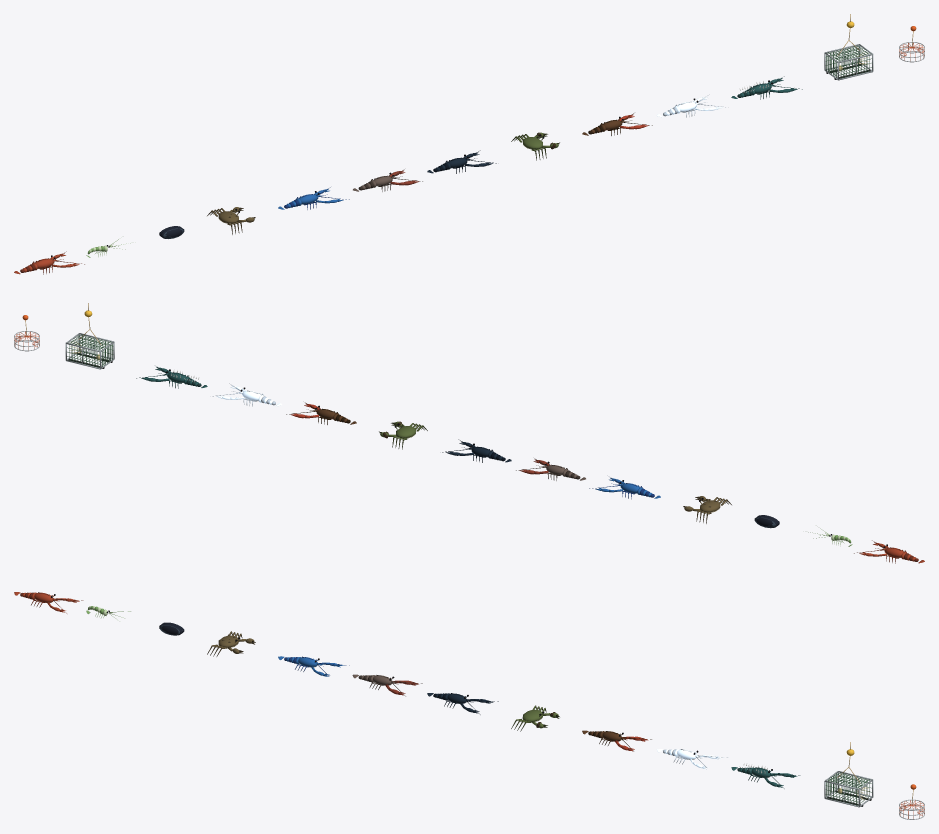
Rendered from shellfish.glb.
3 renders of one model, top to bottom at view 1: azimuth 30°, elevation 25°; view 2: azimuth 150°, elevation 25°; view 3: azimuth 330°, elevation 25°, orthographic.
Parts seen in each view (by area): view 1: cage, murraycray; view 2: cage; view 3: cage, murraycray, signalcray, noblecray, marron, mudcrab, mittencrab.
Boxes of the visible parts, <box> form: cage: <box>824,14,873,80</box>; murraycray: <box>731,76,802,99</box>; cage: <box>65,303,114,369</box>; cage: <box>824,742,873,807</box>; murraycray: <box>731,763,800,788</box>; signalcray: <box>352,674,422,696</box>; noblecray: <box>582,730,651,751</box>; marron: <box>427,693,498,714</box>; mudcrab: <box>207,631,255,656</box>; mittencrab: <box>511,705,559,731</box>.
Size of the model in its own units: 31.68 by 1.92 by 1.57.
